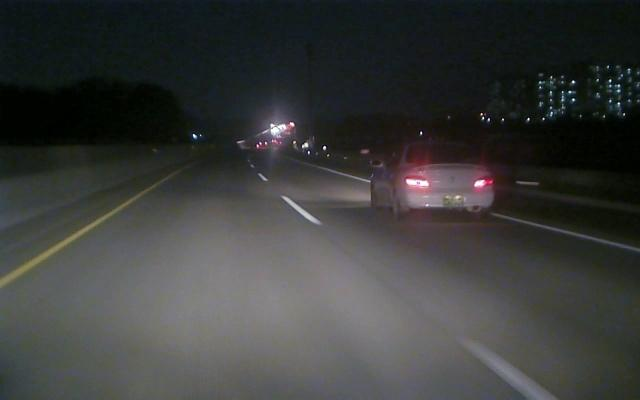lane: (258, 172, 558, 400), (325, 167, 639, 254), (3, 192, 143, 286)
